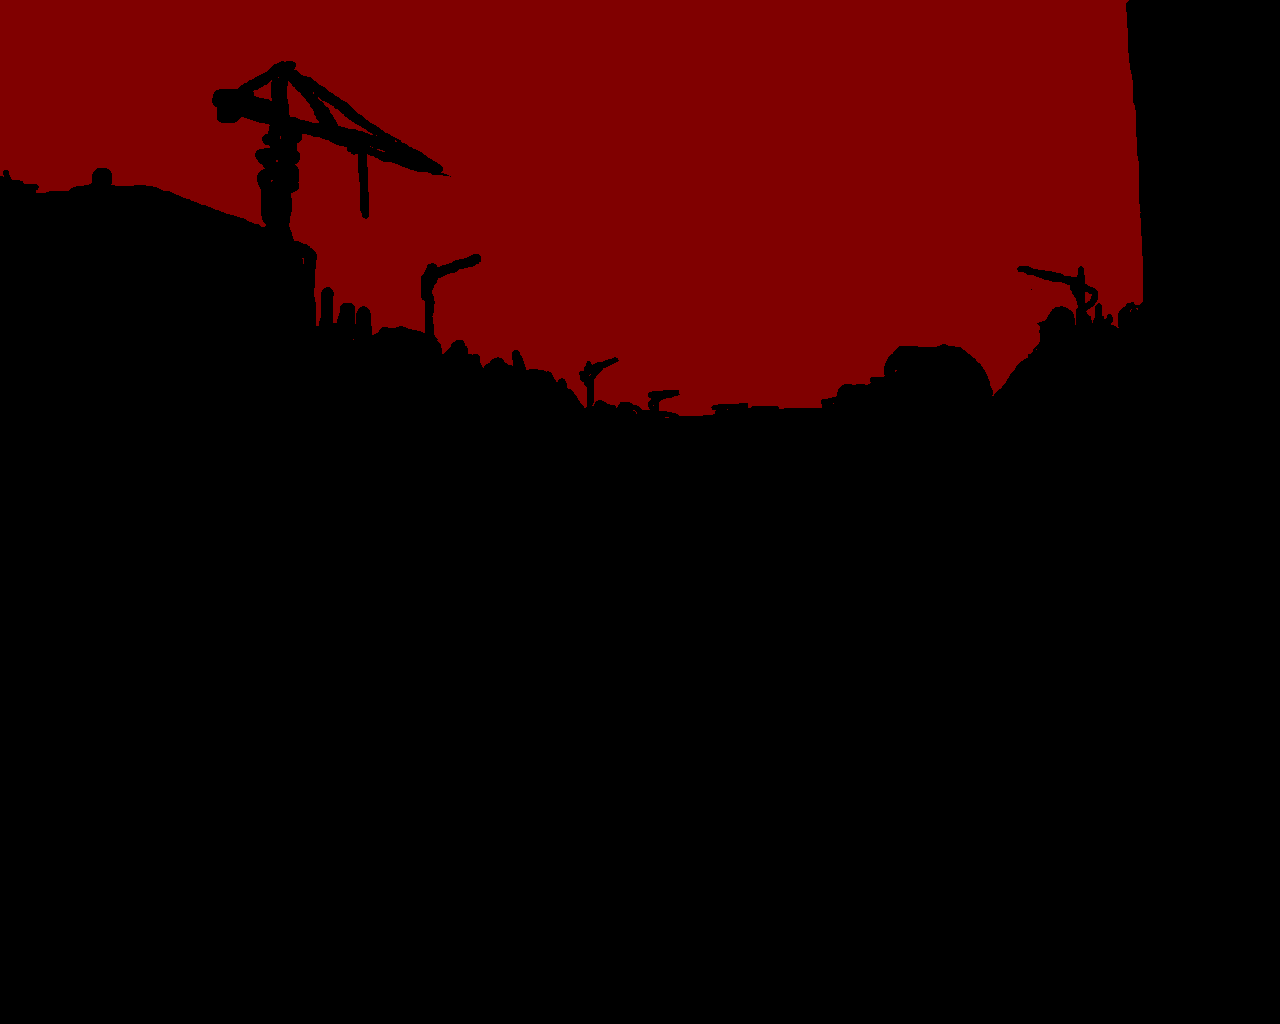Sky: (1, 1, 1142, 418)
